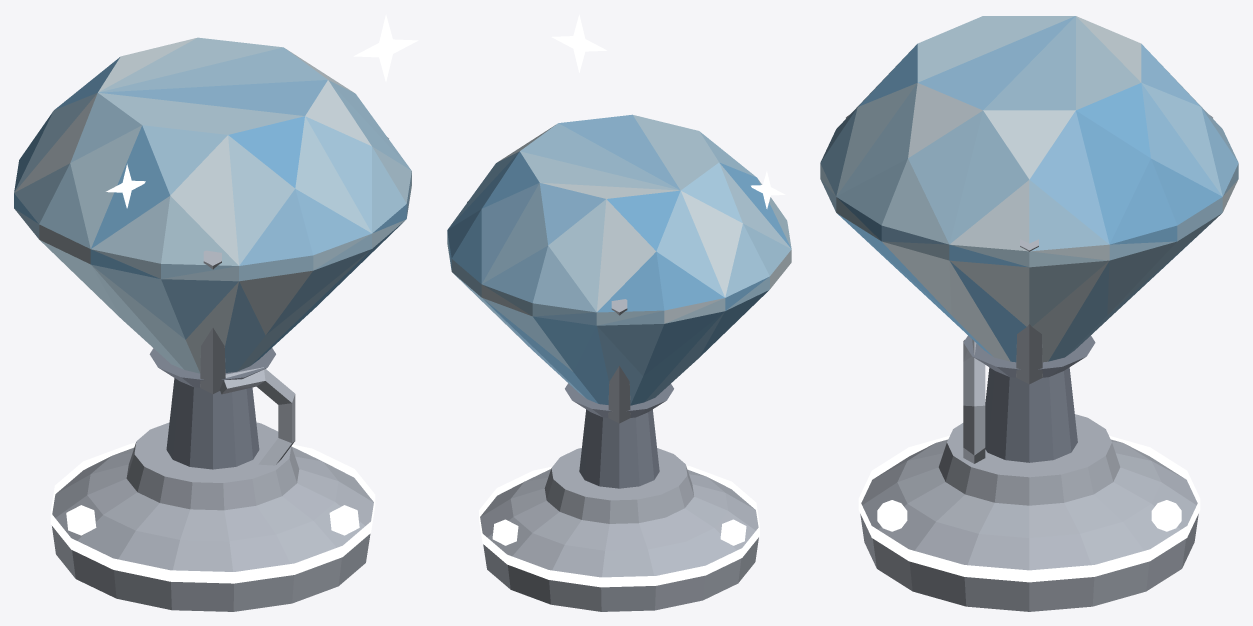
The model's file is artifact-moon-diamond.glb.
3 renders of one model, left to right at view 1: azimuth 30°, elevation 25°; view 2: azimuth 150°, elevation 25°; view 3: azimuth 270°, elevation 25°, orthographic. The views are drawn at different scales.
Visible parts, largest first — view 1: MoonDiamond; view 2: MoonDiamond; view 3: MoonDiamond.
Boxes of the visible parts, x1=… form: MoonDiamond: x1=14, y1=14, x2=418, y2=611; MoonDiamond: x1=447, y1=14, x2=791, y2=611; MoonDiamond: x1=820, y1=16, x2=1238, y2=611.
Bounding box in the file's own units: 0.1909 × 0.288 × 0.19.
